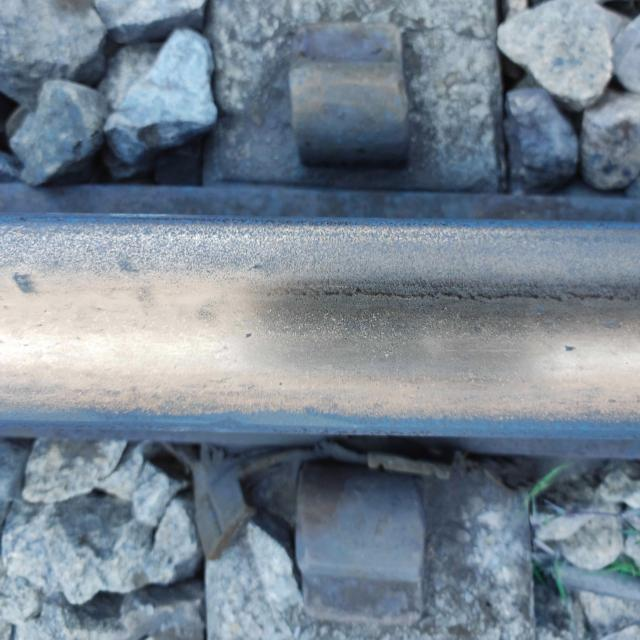Missing Fastener: (164, 438, 535, 640), (203, 0, 506, 193)
